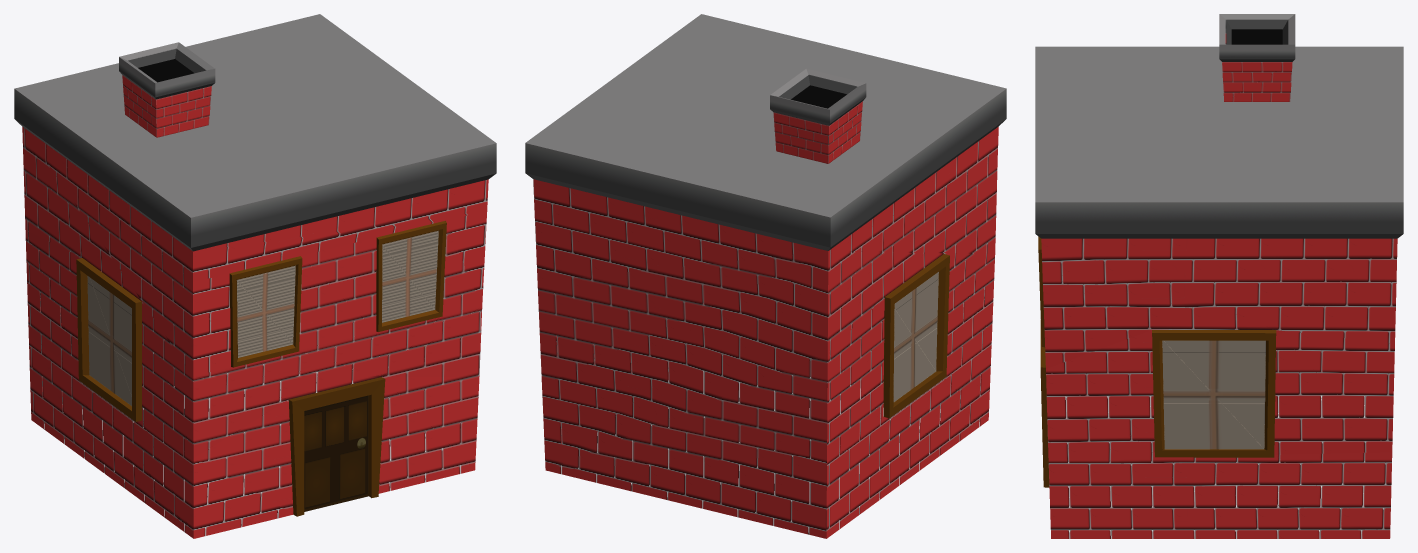
Rendered from house.fbx.
3 views of the same model, side by side, from view 1: azimuth 30°, elevation 25°; view 2: azimuth 150°, elevation 25°; view 3: azimuth 270°, elevation 25° (orthographic). The views are drawn at different scales.
Parts seen in each view (by area): view 1: Cube; view 2: Cube; view 3: Cube.
Boxes of the visible parts, x1,y1,x2,y2 form: Cube: (14, 14, 496, 538); Cube: (525, 14, 1006, 538); Cube: (1035, 14, 1403, 538).
Bounding box in the file's own units: 5.21 × 6.29 × 5.21.
